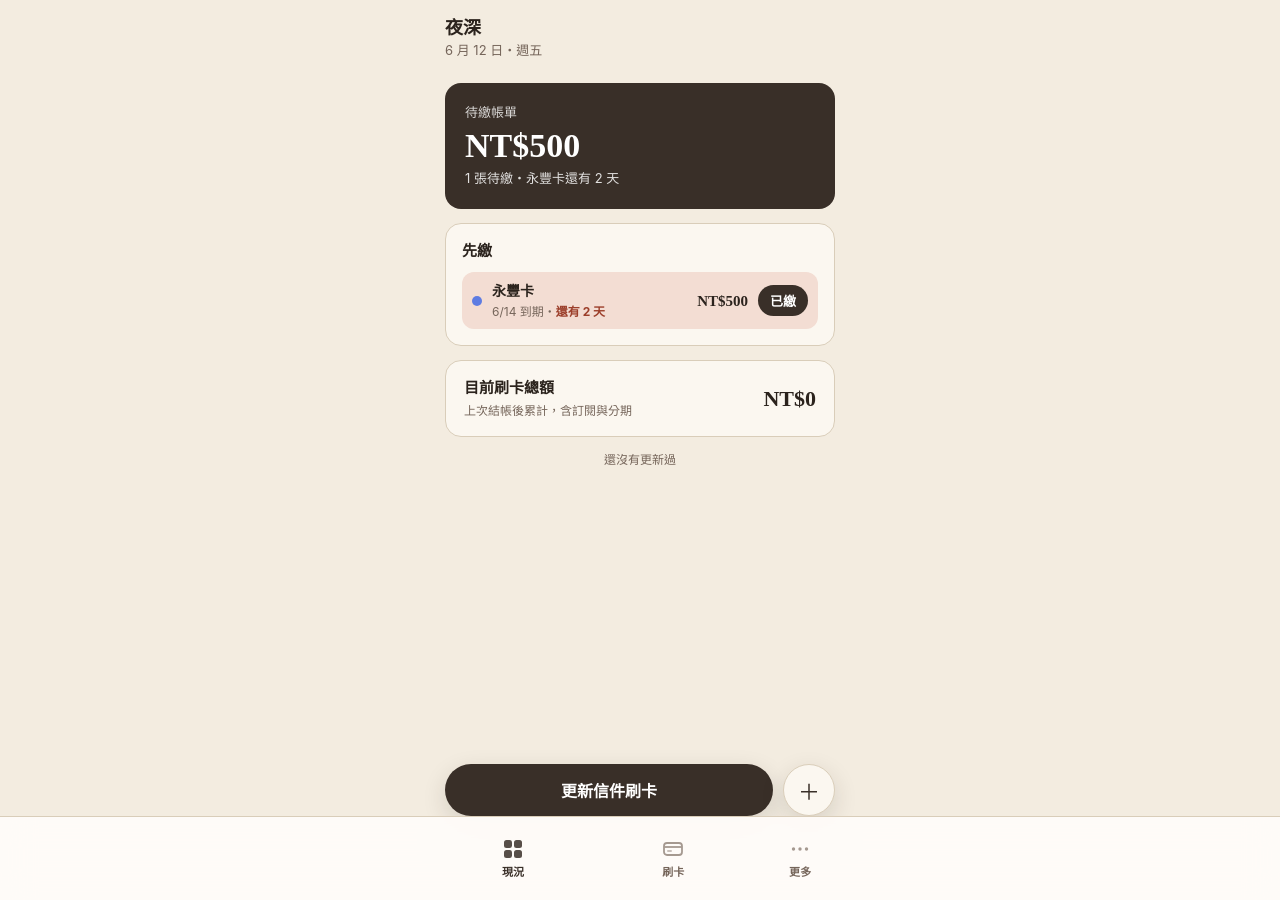
Test: 刷卡記錄：新增 / 編輯 / 刪除 › 點整筆刷卡記錄即可開啟編輯並修改金額
Click the button "刷卡": x=673, y=858 [593,826,753,890]
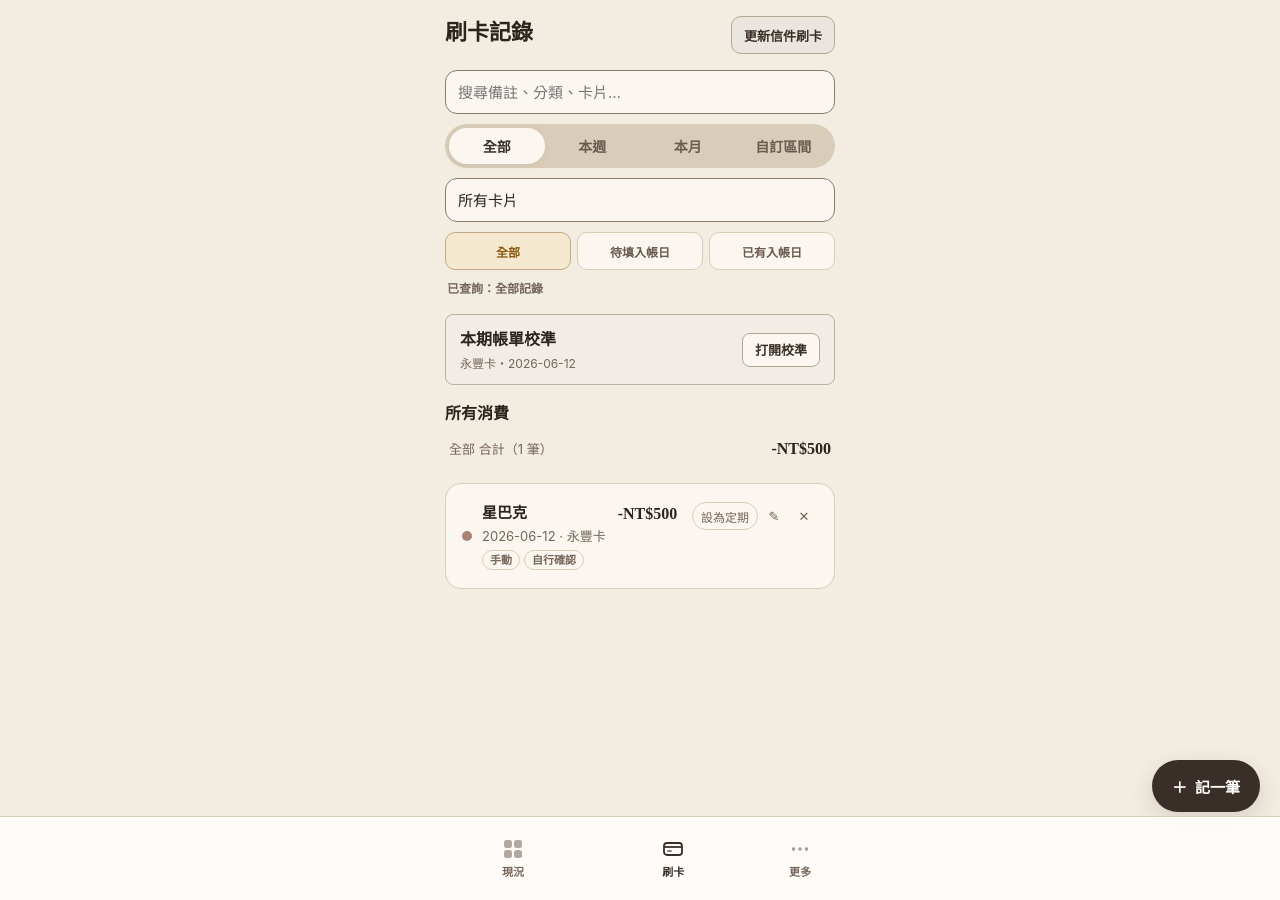
Click the button with class "tx-item-clickable": x=505, y=513 [462,500,818,572]
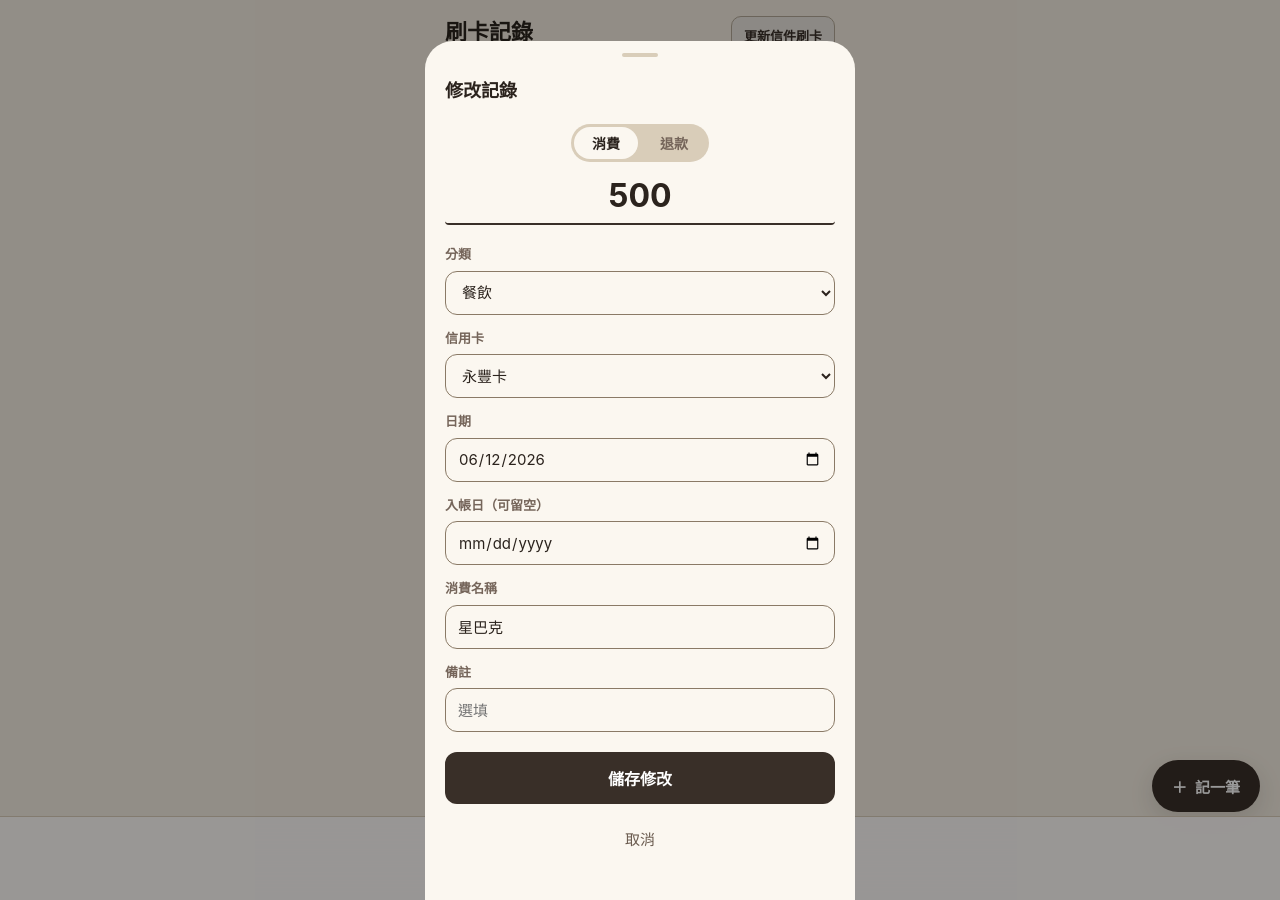
Now the heading "修改記錄" is shown, box [445,80,517,101]
Now the number field holds "500"
Replace the text in the number field with "650": x=640, y=196 [445,168,835,225]
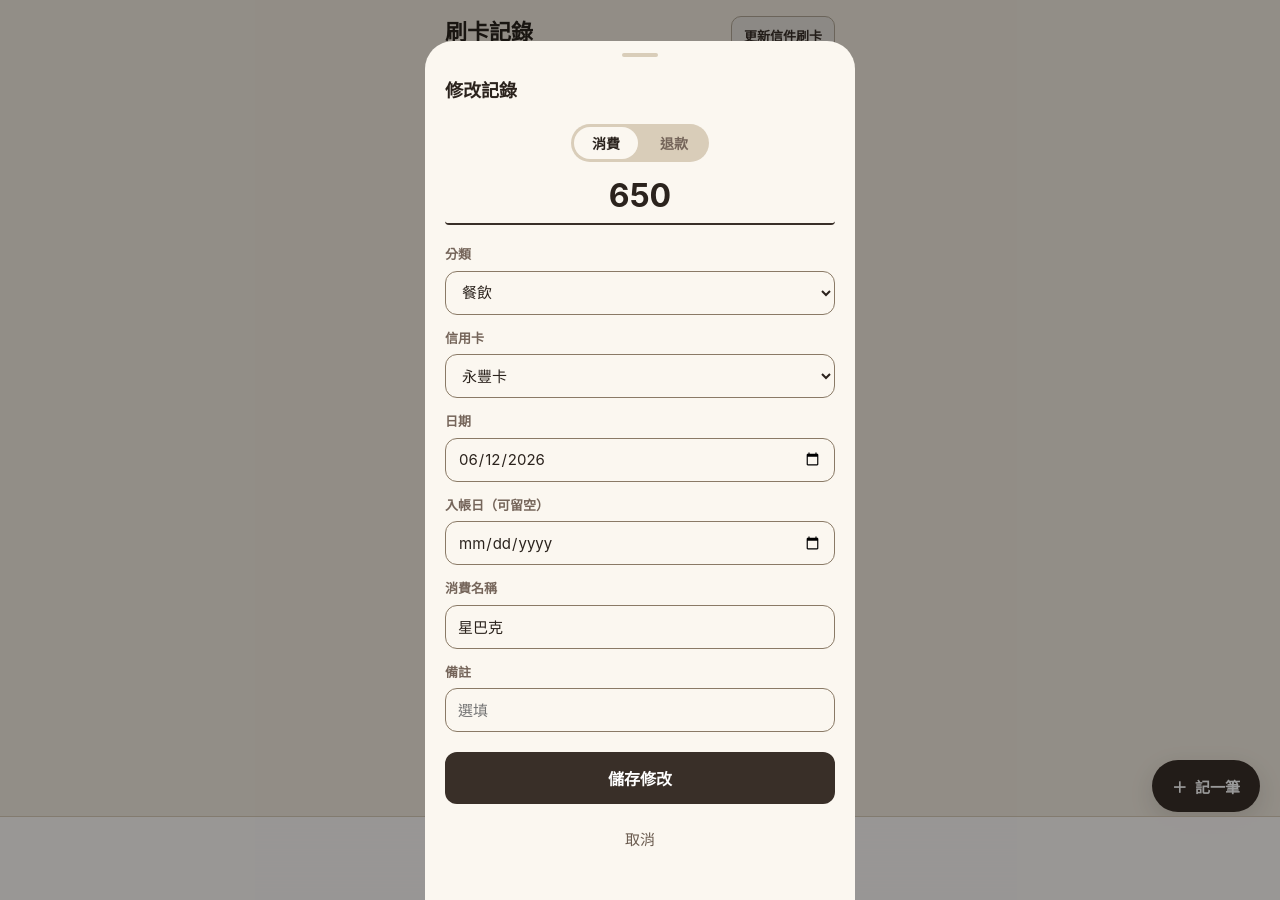
Click the button "儲存修改": x=640, y=778 [445,752,835,804]
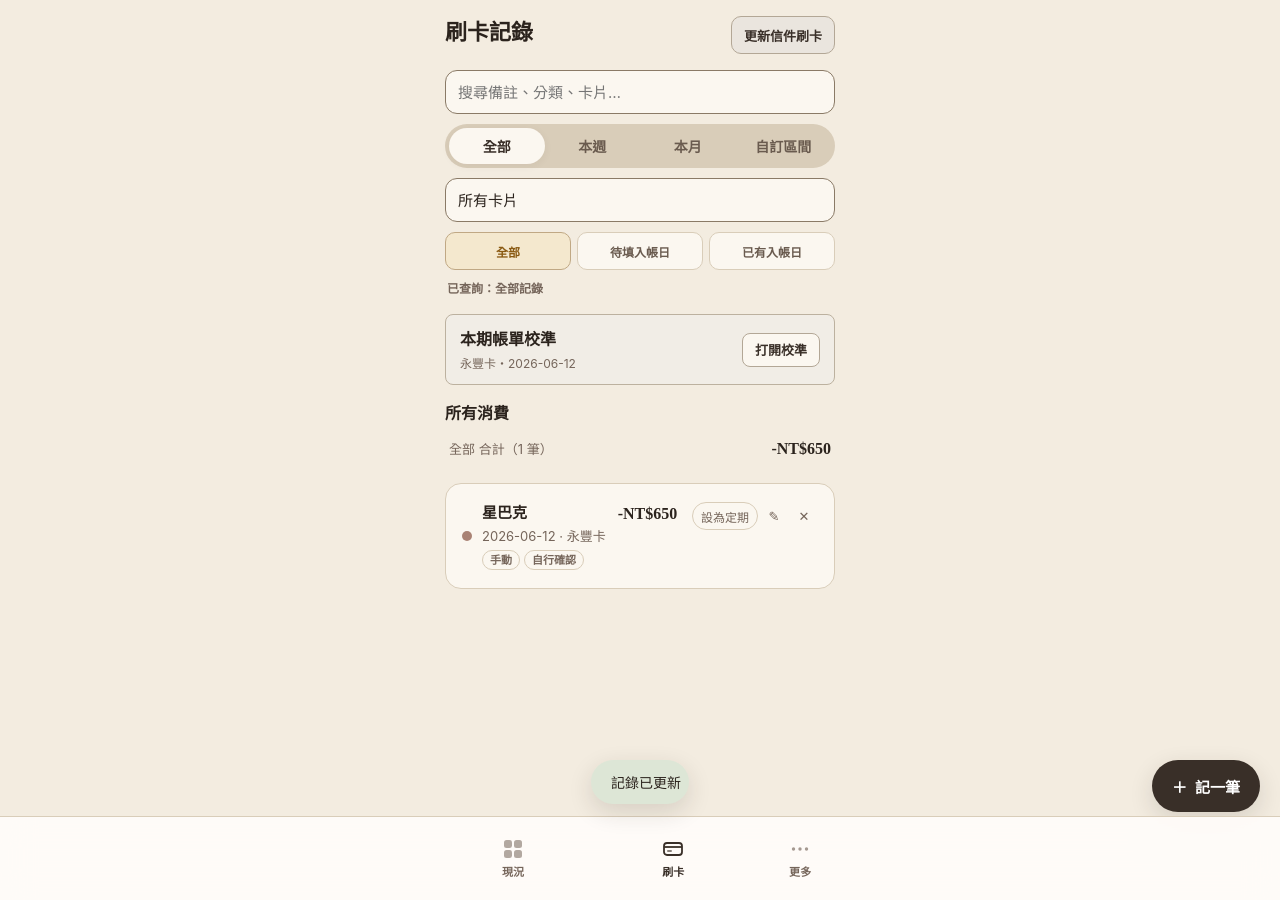
Now the text with class "tx-amount" reads "-NT$650", box [618,502,677,526]
